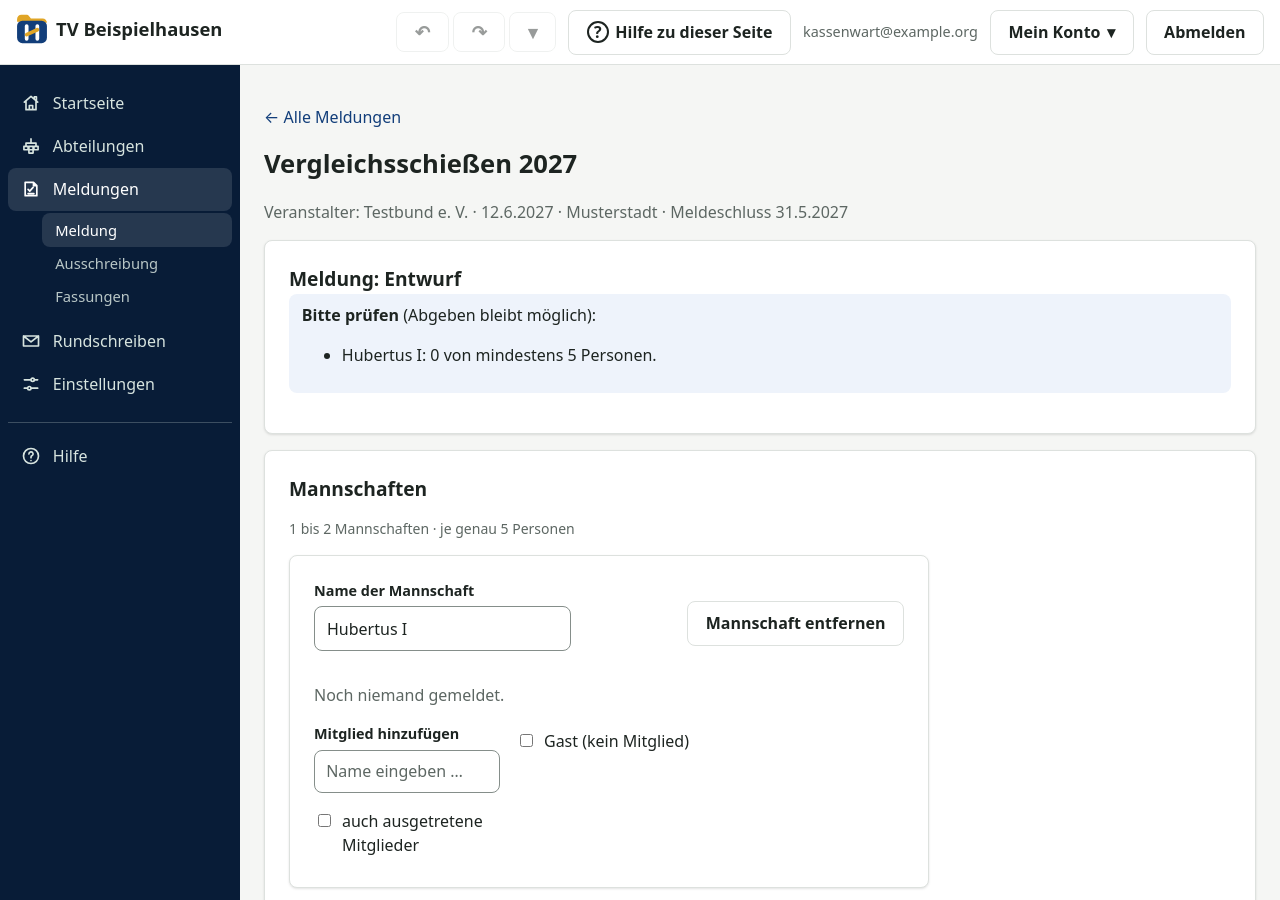
Test case: Meldungen › wählt ein Mitglied aus der Liste und gibt die Meldung per E-Mail ab
Expected: the list item "Hubertus I: 0 von mindestens 5 Personen." is shown, [342,344,657,366]
Type "muel" into the search field named "Mitglied hinzufügen".
click(407, 771); type("muel")  # box [314,750,500,793]
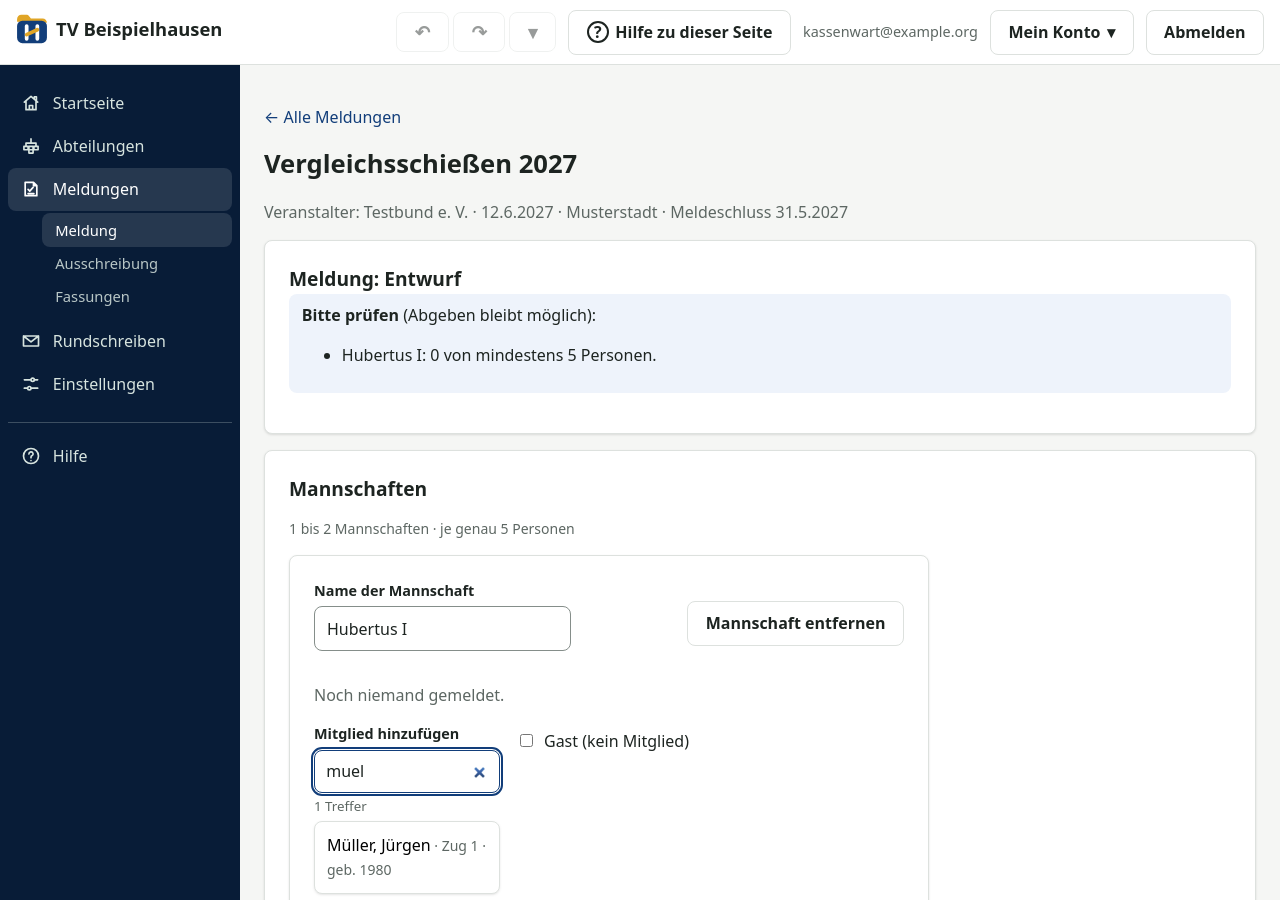
Click the button "Müller, Jürgen · Zug 1 · geb. 1980".
click(407, 857)  # box [315,826,499,888]
(page scrolled)
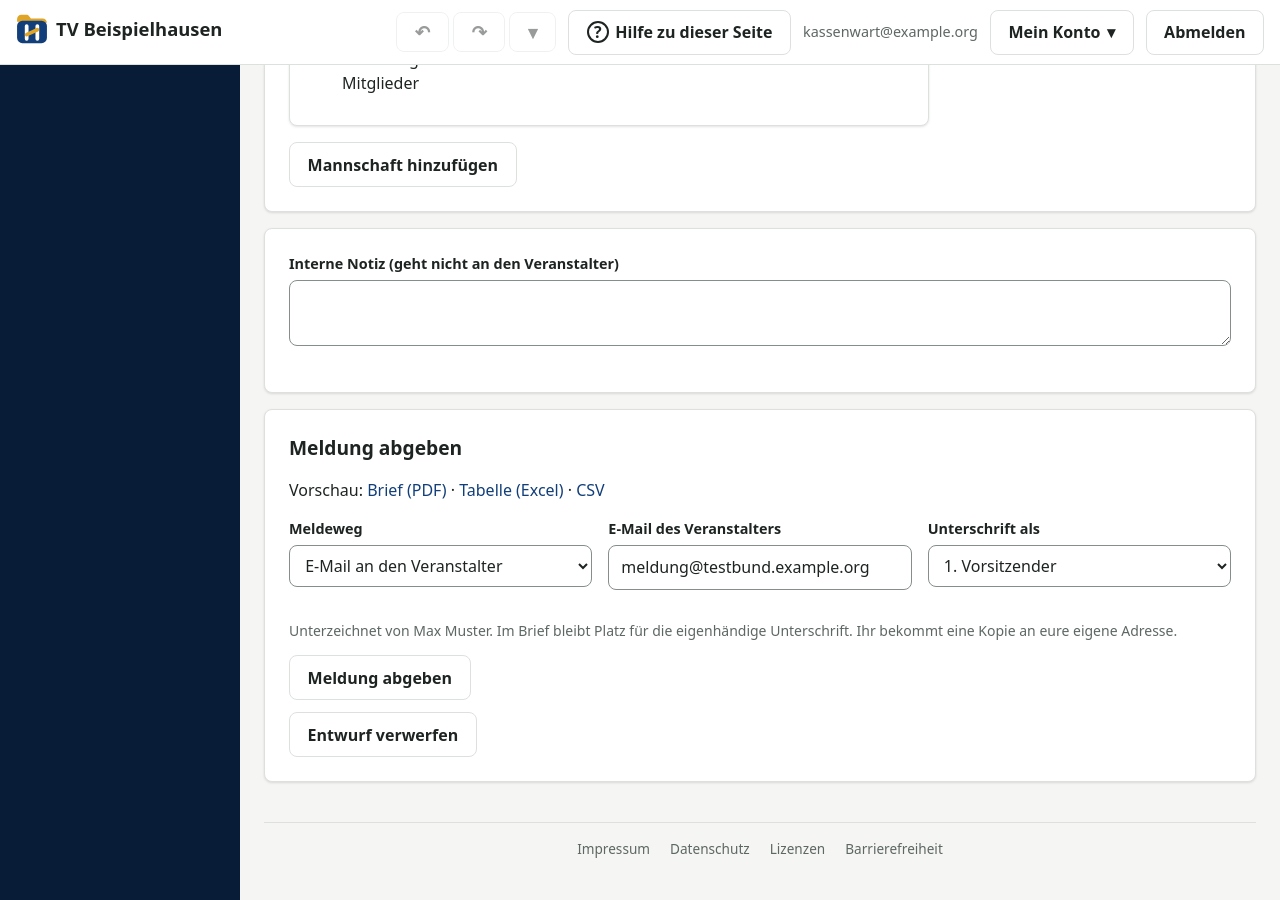
Expected: the field labelled "E-Mail des Veranstalters" holds "meldung@testbund.example.org", [608,545,912,590]
Click the button "Meldung abgeben".
click(380, 678)  # box [289,655,470,700]
(page scrolled)
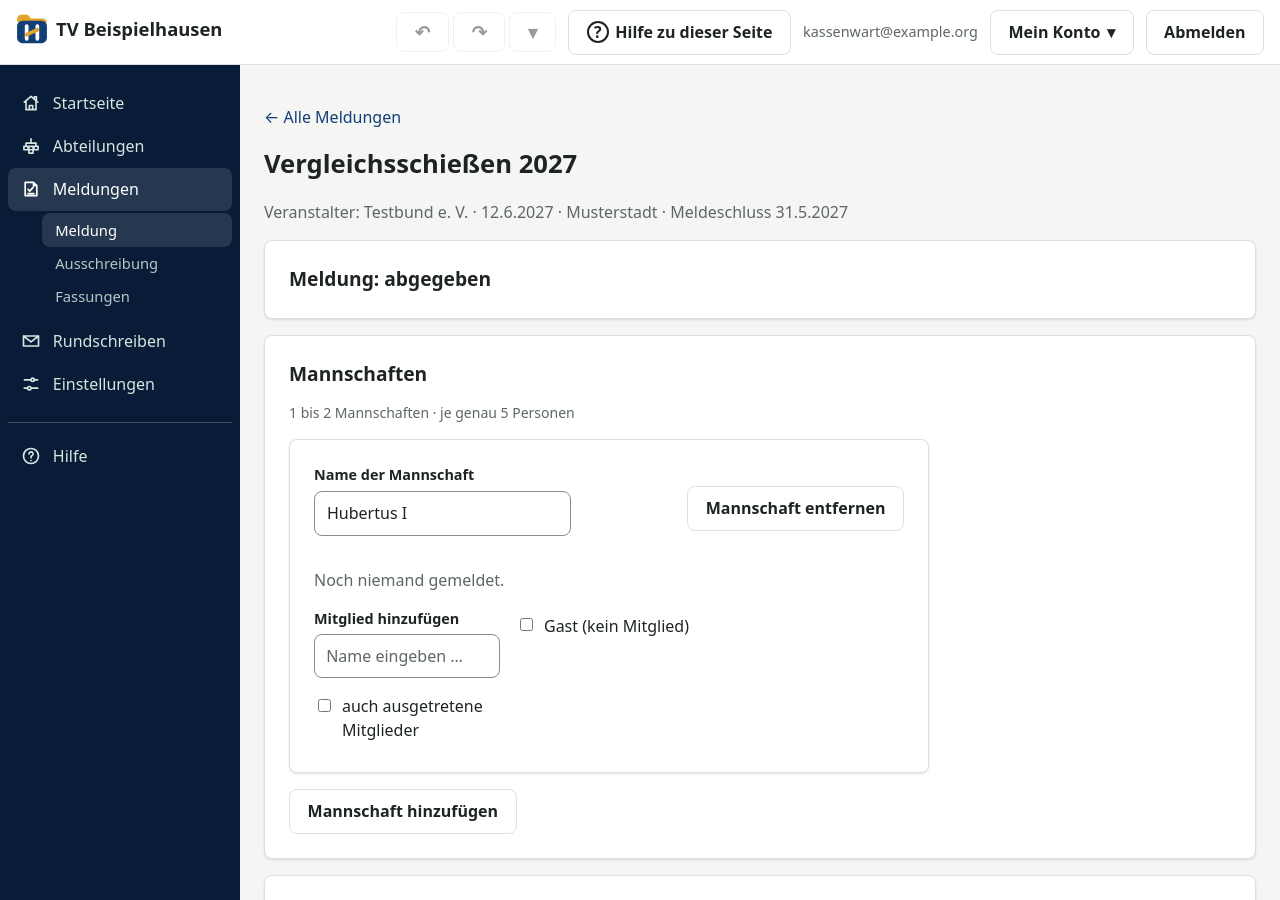
Now the heading "Meldung: abgegeben" is shown, box [289,265,491,294]
